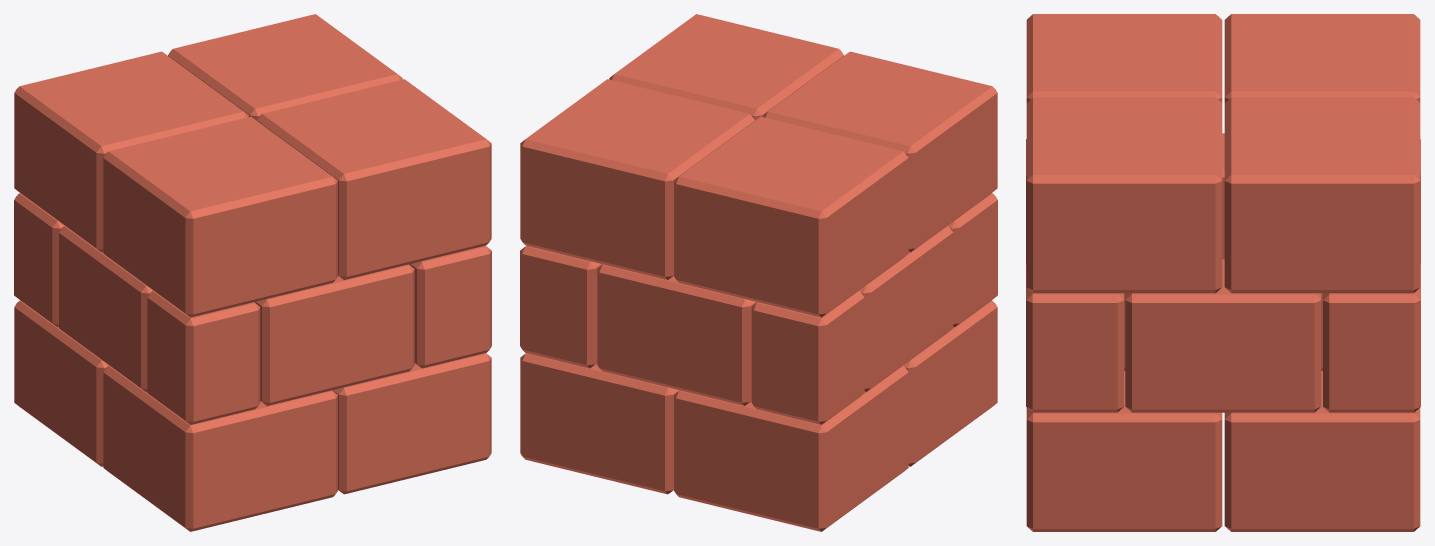
The model's file is brick.fbx.
3 renders of one model, left to right at view 1: azimuth 30°, elevation 25°; view 2: azimuth 150°, elevation 25°; view 3: azimuth 270°, elevation 25°, orthographic. The views are drawn at different scales.
Parts seen in each view (by area): view 1: Cube.002; view 2: Cube.002; view 3: Cube.002.
Part boxes in pixels (left/top/right/bottom): Cube.002: left=14, top=14, right=491, bottom=531; Cube.002: left=520, top=14, right=997, bottom=531; Cube.002: left=1026, top=14, right=1420, bottom=531.
Size of the model in its own units: 199 by 199 by 200.
